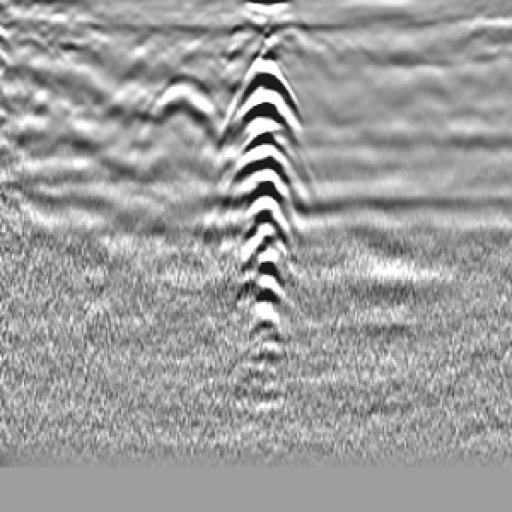metalic: (210, 34, 332, 357)
nonmetalic: (128, 61, 229, 174)
